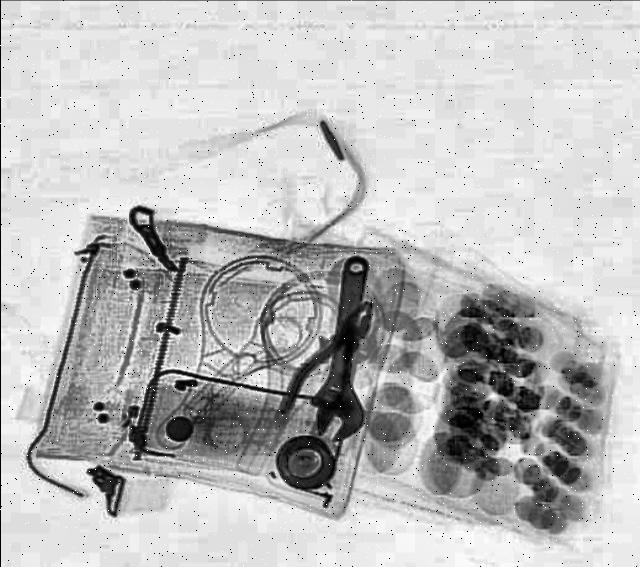Pliers: (272, 290, 398, 430)
Wrench: (306, 252, 382, 444)
